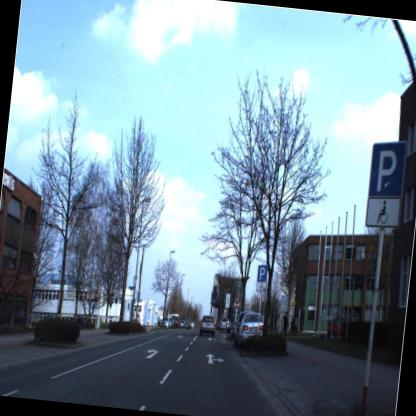danger: (231, 293, 242, 311)
